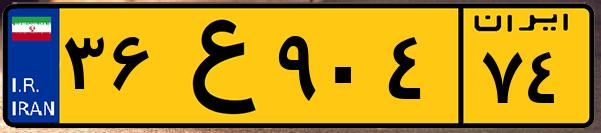0: (330, 28, 385, 110)
3: (57, 26, 110, 100)
4: (385, 28, 445, 110), (525, 38, 570, 115)
6: (110, 28, 158, 98)
7: (475, 38, 525, 113)
9: (270, 28, 330, 110)
ع: (158, 12, 270, 120)
